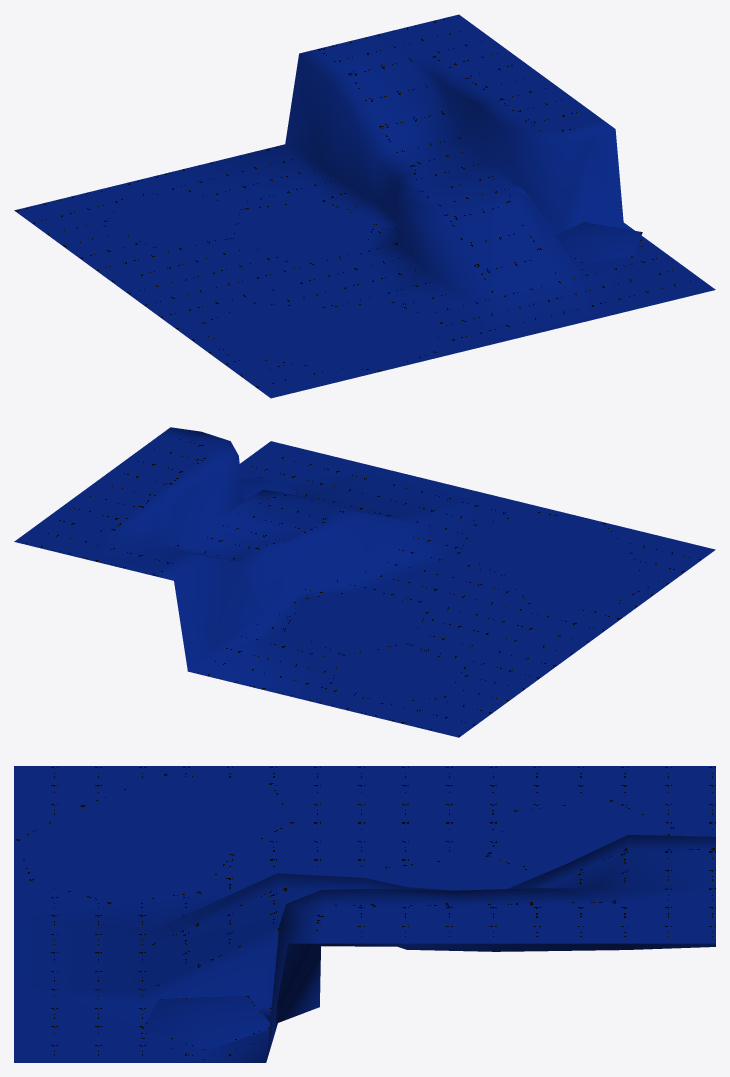
Rendered from GRD_S_C7_S_3.fbx.
3 views of the same model, one above another, from view 1: azimuth 30°, elevation 25°; view 2: azimuth 150°, elevation 25°; view 3: azimuth 270°, elevation 25° (orthographic). The views are drawn at different scales.
Visible parts, largest first — view 1: material_00022000, material_00042000, material_C0032000, material_C0012000; view 2: material_00022000, material_C0032000, material_00042000, material_C0012000; view 3: material_00022000, material_C0032000, material_00042000, material_C0012000, material_C0052000.
Boxes of the visible parts, x1=… form: material_00022000: x1=14, y1=14, x2=715, y2=398; material_00042000: x1=285, y1=48, x2=623, y2=301; material_C0032000: x1=102, y1=190, x2=442, y2=371; material_C0012000: x1=555, y1=222, x2=642, y2=263; material_00022000: x1=14, y1=436, x2=715, y2=737; material_C0032000: x1=282, y1=511, x2=649, y2=704; material_00042000: x1=107, y1=427, x2=416, y2=671; material_C0012000: x1=241, y1=476, x2=297, y2=500; material_00022000: x1=14, y1=766, x2=715, y2=1062; material_C0032000: x1=14, y1=773, x2=674, y2=904; material_00042000: x1=145, y1=835, x2=715, y2=1061; material_C0012000: x1=142, y1=995, x2=269, y2=1050; material_C0052000: x1=142, y1=1030, x2=269, y2=1060.
Size of the model in its own units: 12800 by 2400 by 12800.
